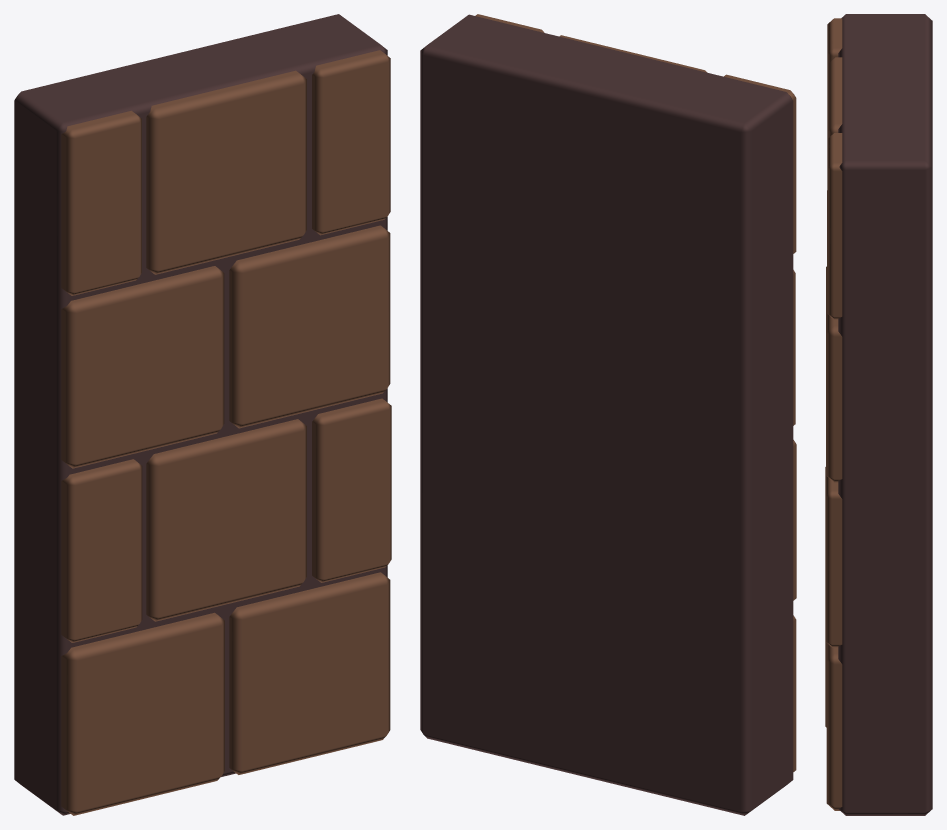
Rendered from ghost-town-wall-retaining.f1abc07c.glb.
The picture shows the model from 3 angles, left to right: view 1: azimuth 30°, elevation 25°; view 2: azimuth 150°, elevation 25°; view 3: azimuth 270°, elevation 25°; orthographic projection. The views are drawn at different scales.
Visible parts, largest first — view 1: body; view 2: body; view 3: body.
Boxes of the visible parts, box(x1,y1,x2,y2) form: body: box(14, 14, 391, 815); body: box(420, 14, 796, 815); body: box(825, 14, 932, 815).
Bounding box in the file's own units: 1 × 2 × 0.296.
